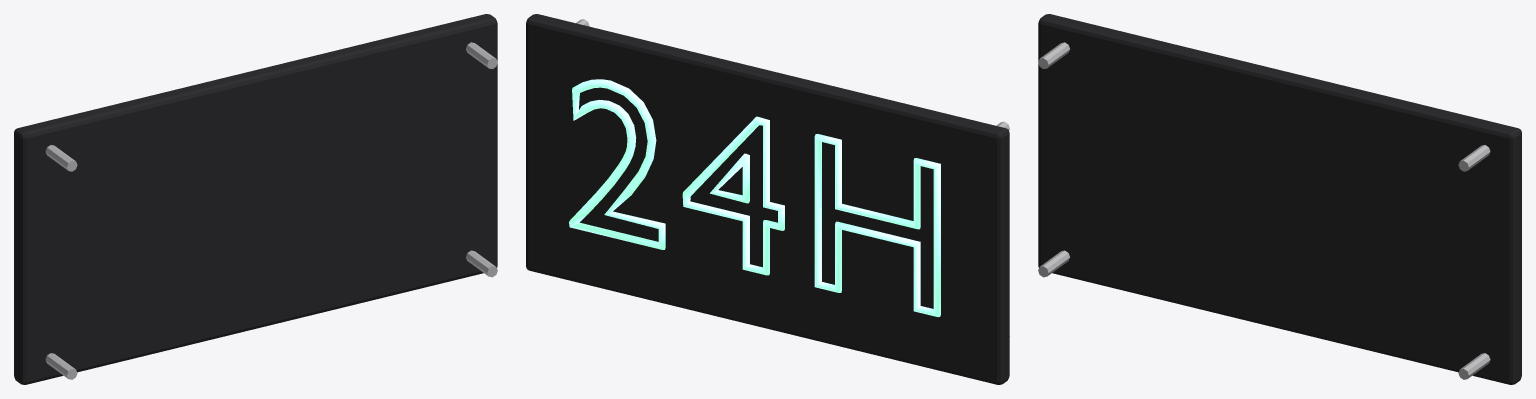
Rendered from neon_sign_24h.glb.
3 renders of one model, left to right at view 1: azimuth 30°, elevation 25°; view 2: azimuth 150°, elevation 25°; view 3: azimuth 330°, elevation 25°, orthographic.
Visible parts, largest first — view 1: neon_sign_24h; view 2: neon_sign_24h; view 3: neon_sign_24h.
Part boxes in pixels (box(x1,y1,x2,y2)): neon_sign_24h: box(14, 14, 497, 384); neon_sign_24h: box(526, 14, 1009, 384); neon_sign_24h: box(1038, 14, 1521, 384).
Bounding box in the file's own units: 1.34 × 0.68 × 0.181.
